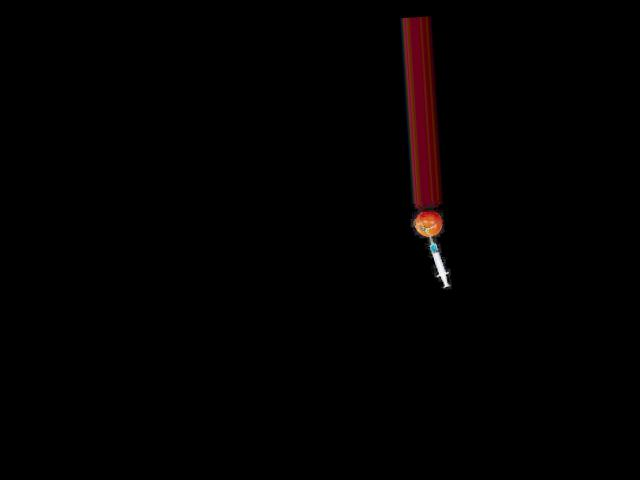tomato: (413, 210, 443, 237)
